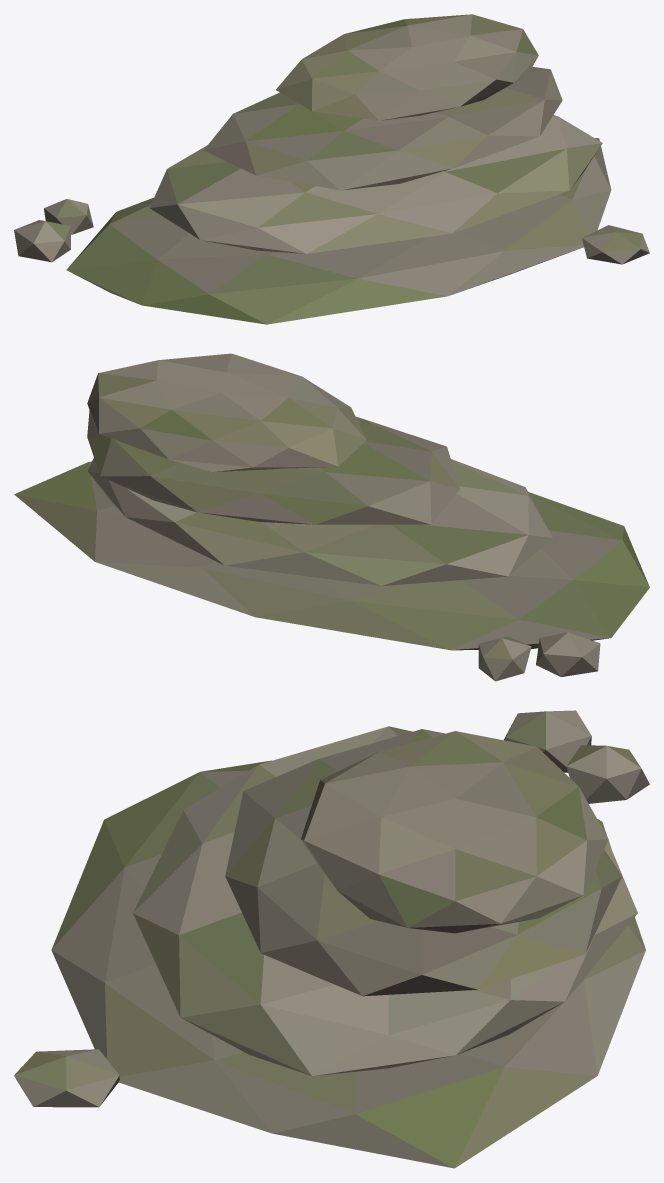
Rendered from env_lime_outcrop.glb.
3 views of the same model, one above another, from view 1: azimuth 30°, elevation 25°; view 2: azimuth 150°, elevation 25°; view 3: azimuth 270°, elevation 25° (orthographic). The views are drawn at different scales.
Visible parts, largest first — view 1: env_lime_outcrop; view 2: env_lime_outcrop; view 3: env_lime_outcrop.
Part boxes in pixels (<box>): env_lime_outcrop: <box>14,14,649,324</box>; env_lime_outcrop: <box>14,353,649,681</box>; env_lime_outcrop: <box>14,710,649,1168</box>.
Bounding box in the file's own units: 9.33 × 2.41 × 5.72.
